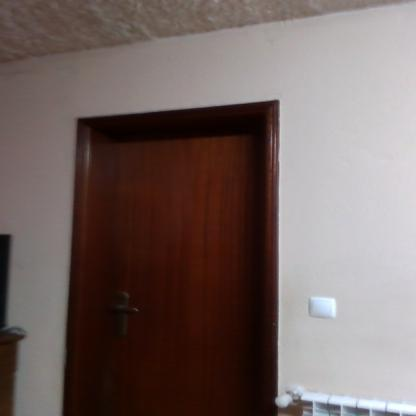door: (92, 130, 266, 415)
lever: (108, 304, 142, 314)
